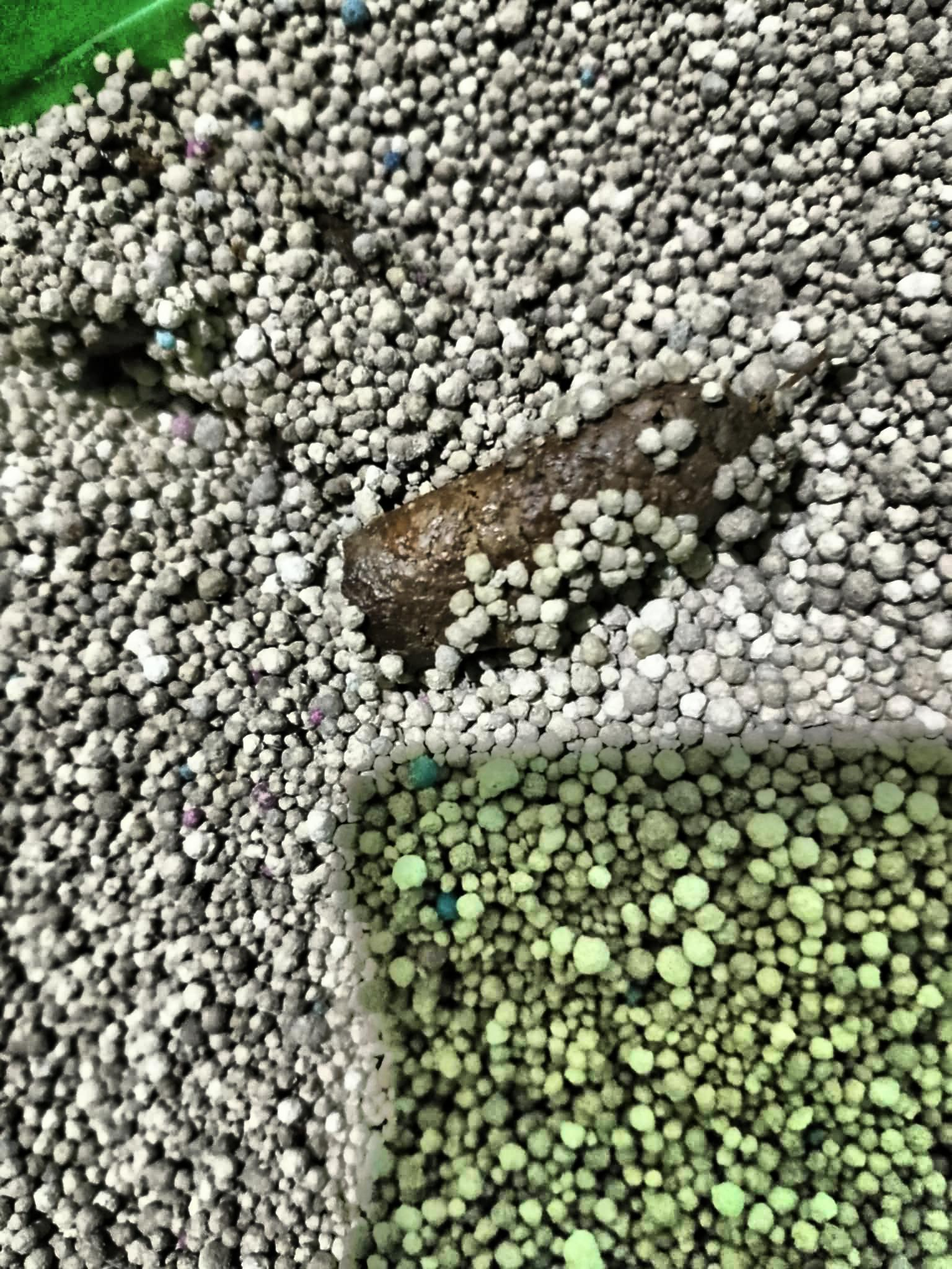poop: (0, 115, 567, 499), (326, 345, 802, 690)
